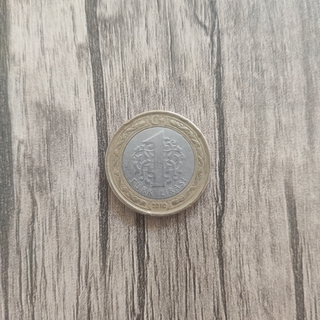1TL: (103, 107, 212, 218)
